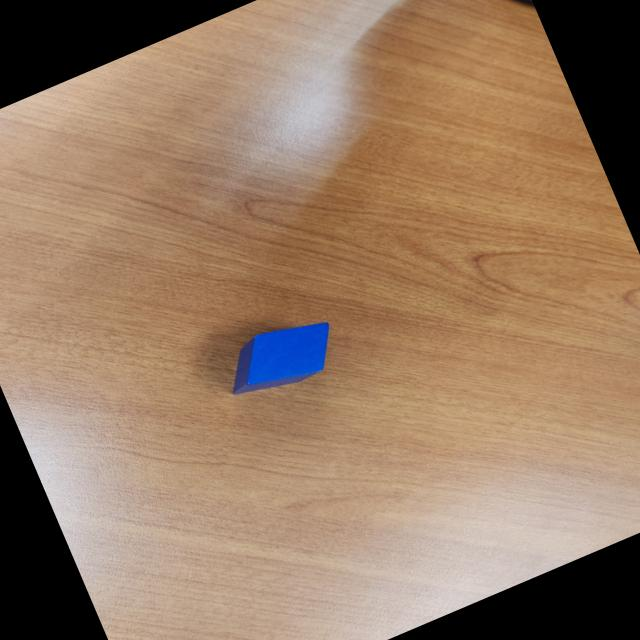blue: (215, 306, 346, 408)
